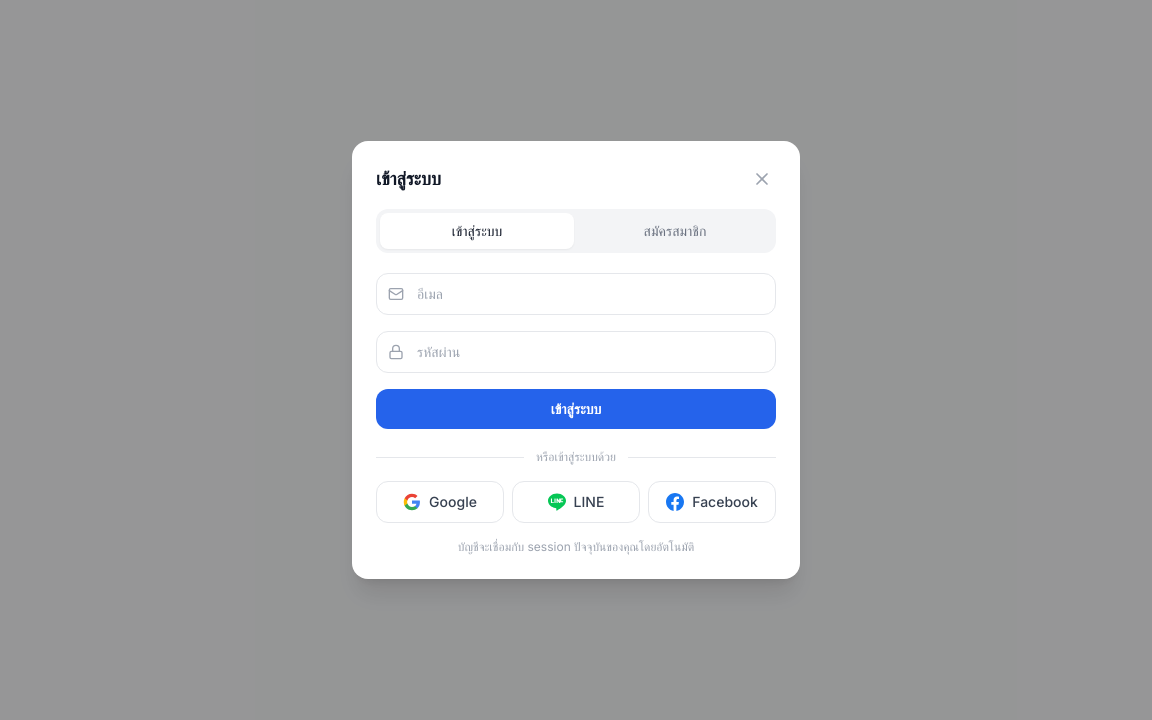
Test case: AuthModal › switches between login and register tabs
Expected: the field with placeholder "ชื่อที่แสดง" is not shown
What coordinates should you click on to do the following:
click the button "สมัครสมาชิก"
I would click on:
 (675, 231)
Its box is [578,213,772,249].
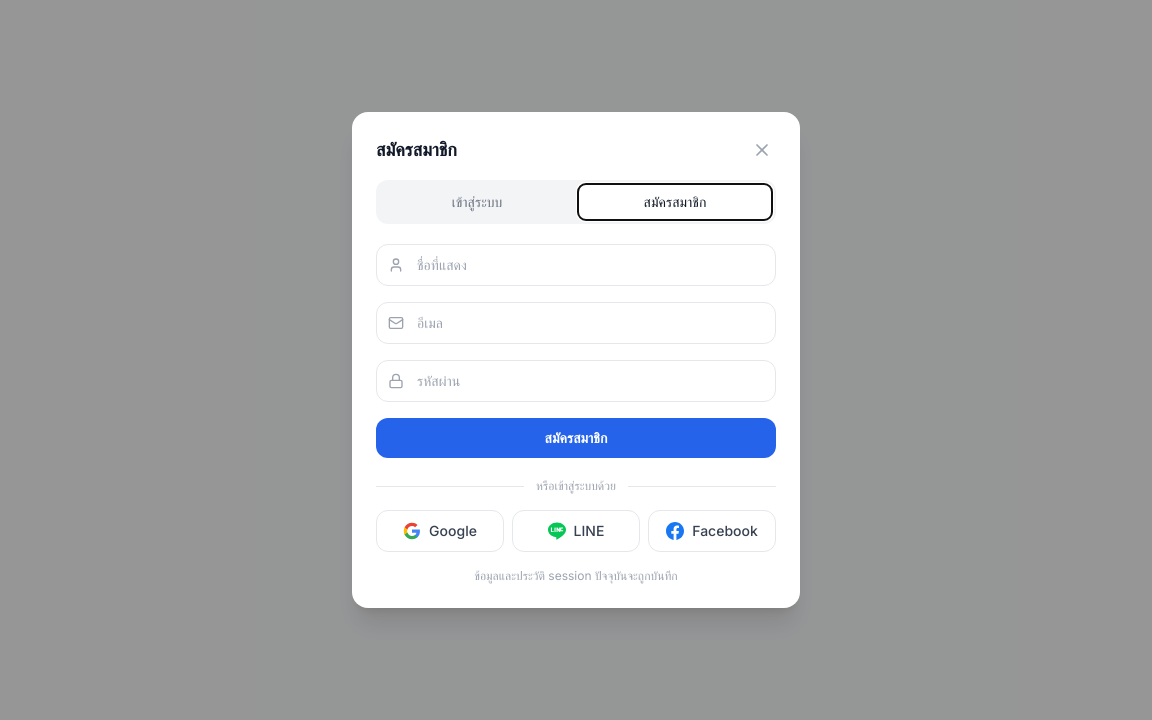
Result: the field with placeholder "ชื่อที่แสดง" is shown at [376,244,776,286]
